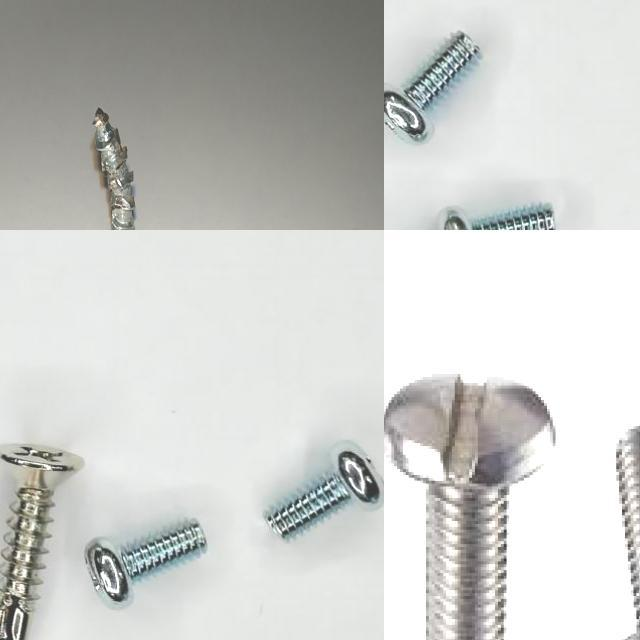Screw: (384, 371, 556, 640), (0, 444, 84, 640), (265, 444, 384, 539), (85, 520, 207, 607), (384, 31, 479, 142), (93, 106, 135, 230), (437, 203, 555, 230)
